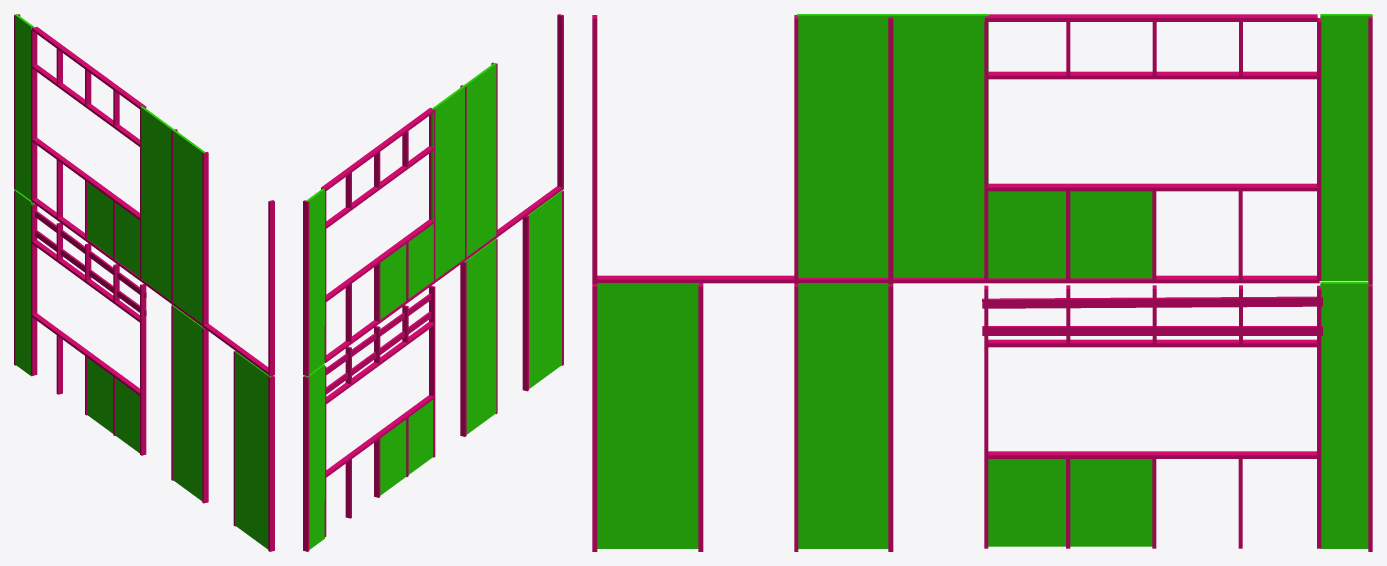
The model's file is BH07B_Wall_06_Break_B.fbx.
3 views of the same model, side by side, from view 1: azimuth 30°, elevation 25°; view 2: azimuth 150°, elevation 25°; view 3: azimuth 270°, elevation 25° (orthographic). The views are drawn at different scales.
Parts seen in each view (by area): view 1: BH07B_Wall_06_Break_B; view 2: BH07B_Wall_06_Break_B; view 3: BH07B_Wall_06_Break_B.
Boxes of the visible parts, bbox=[...] form: BH07B_Wall_06_Break_B: bbox=[14, 14, 274, 551]; BH07B_Wall_06_Break_B: bbox=[303, 14, 563, 551]; BH07B_Wall_06_Break_B: bbox=[592, 14, 1372, 551].
Size of the model in its own units: 9.45 by 604 by 800.
